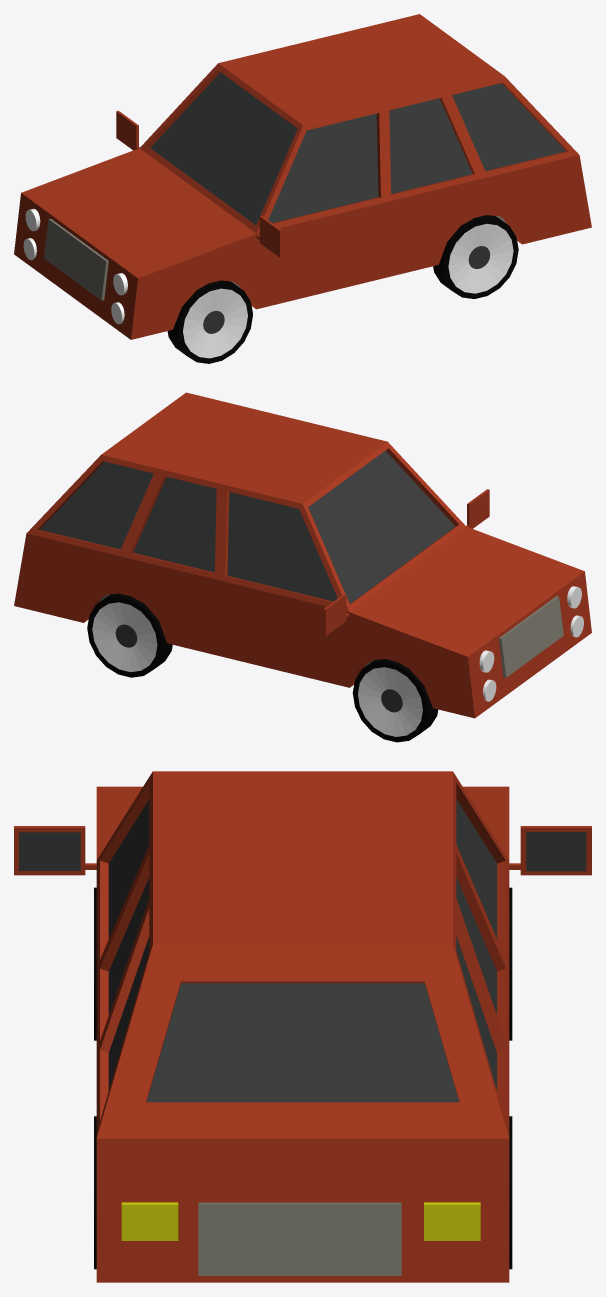
File: car2D.FBX
3 views of the same model, one above another, from view 1: azimuth 30°, elevation 25°; view 2: azimuth 150°, elevation 25°; view 3: azimuth 270°, elevation 25° (orthographic). The views are drawn at different scales.
Parts seen in each view (by area): view 1: car 2D; view 2: car 2D; view 3: car 2D.
Boxes of the visible parts, x1,y1,x2,y2 form: car 2D: (14,14,591,363); car 2D: (14,392,591,742); car 2D: (14,771,591,1282).
Size of the model in its own units: 10.05 by 4.13 by 6.16.
